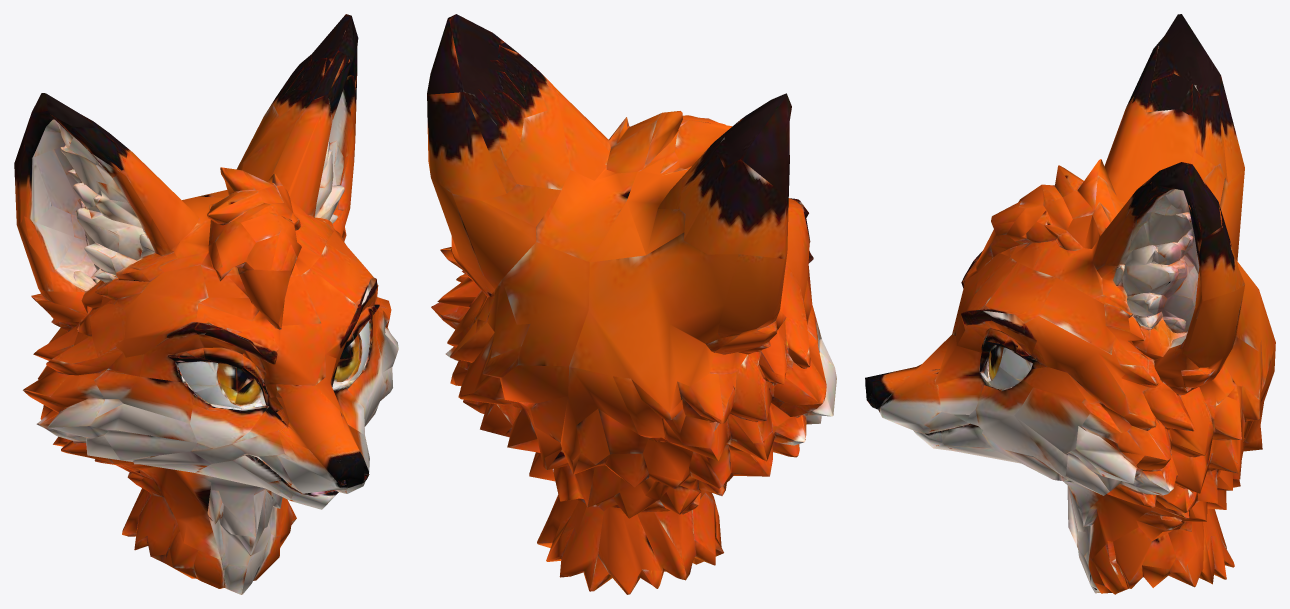
The model's file is hdFox.bbd9b849b6.glb.
The picture shows the model from 3 angles, left to right: view 1: azimuth 30°, elevation 25°; view 2: azimuth 150°, elevation 25°; view 3: azimuth 270°, elevation 25°; orthographic projection. The views are drawn at different scales.
Bounding box in the file's own units: 1.42 × 1.9 × 1.4.
1 material, 1 textured.
